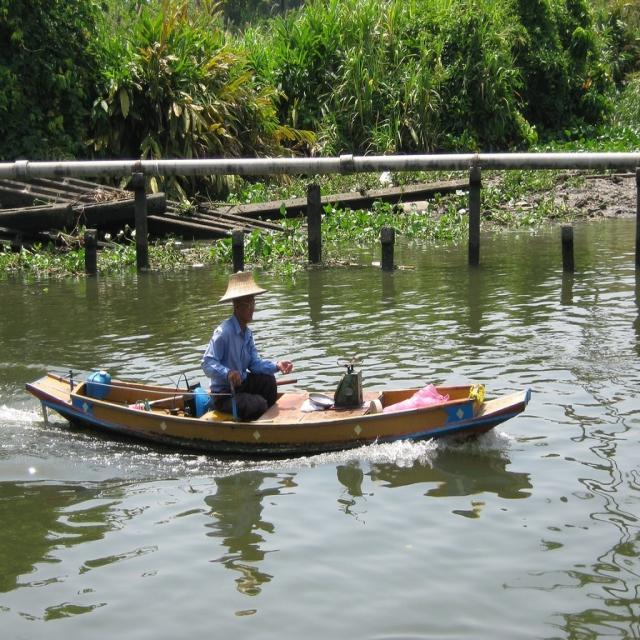boat: (34, 359, 522, 457)
